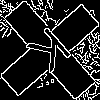K: (25, 25, 80, 82)
